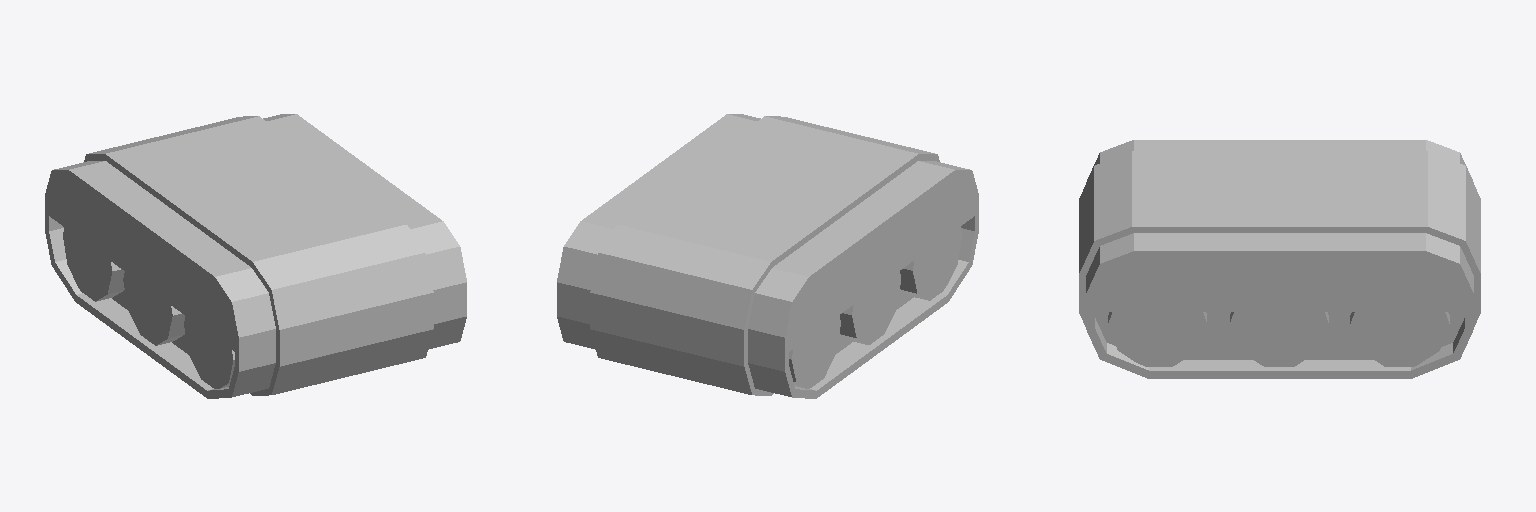
The model's file is PlayerTankBase.obj.
The picture shows the model from 3 angles: view 1: azimuth 30°, elevation 25°; view 2: azimuth 150°, elevation 25°; view 3: azimuth 270°, elevation 25°; orthographic projection.
Visible parts, largest first — view 1: Cube.010; view 2: Cube.010; view 3: Cube.010.
Part boxes in pixels (bbox=[...]): Cube.010: bbox=[45, 114, 466, 398]; Cube.010: bbox=[557, 114, 978, 398]; Cube.010: bbox=[1079, 140, 1480, 378].
Bounding box in the file's own units: 0.5166 × 0.2891 × 0.7885.